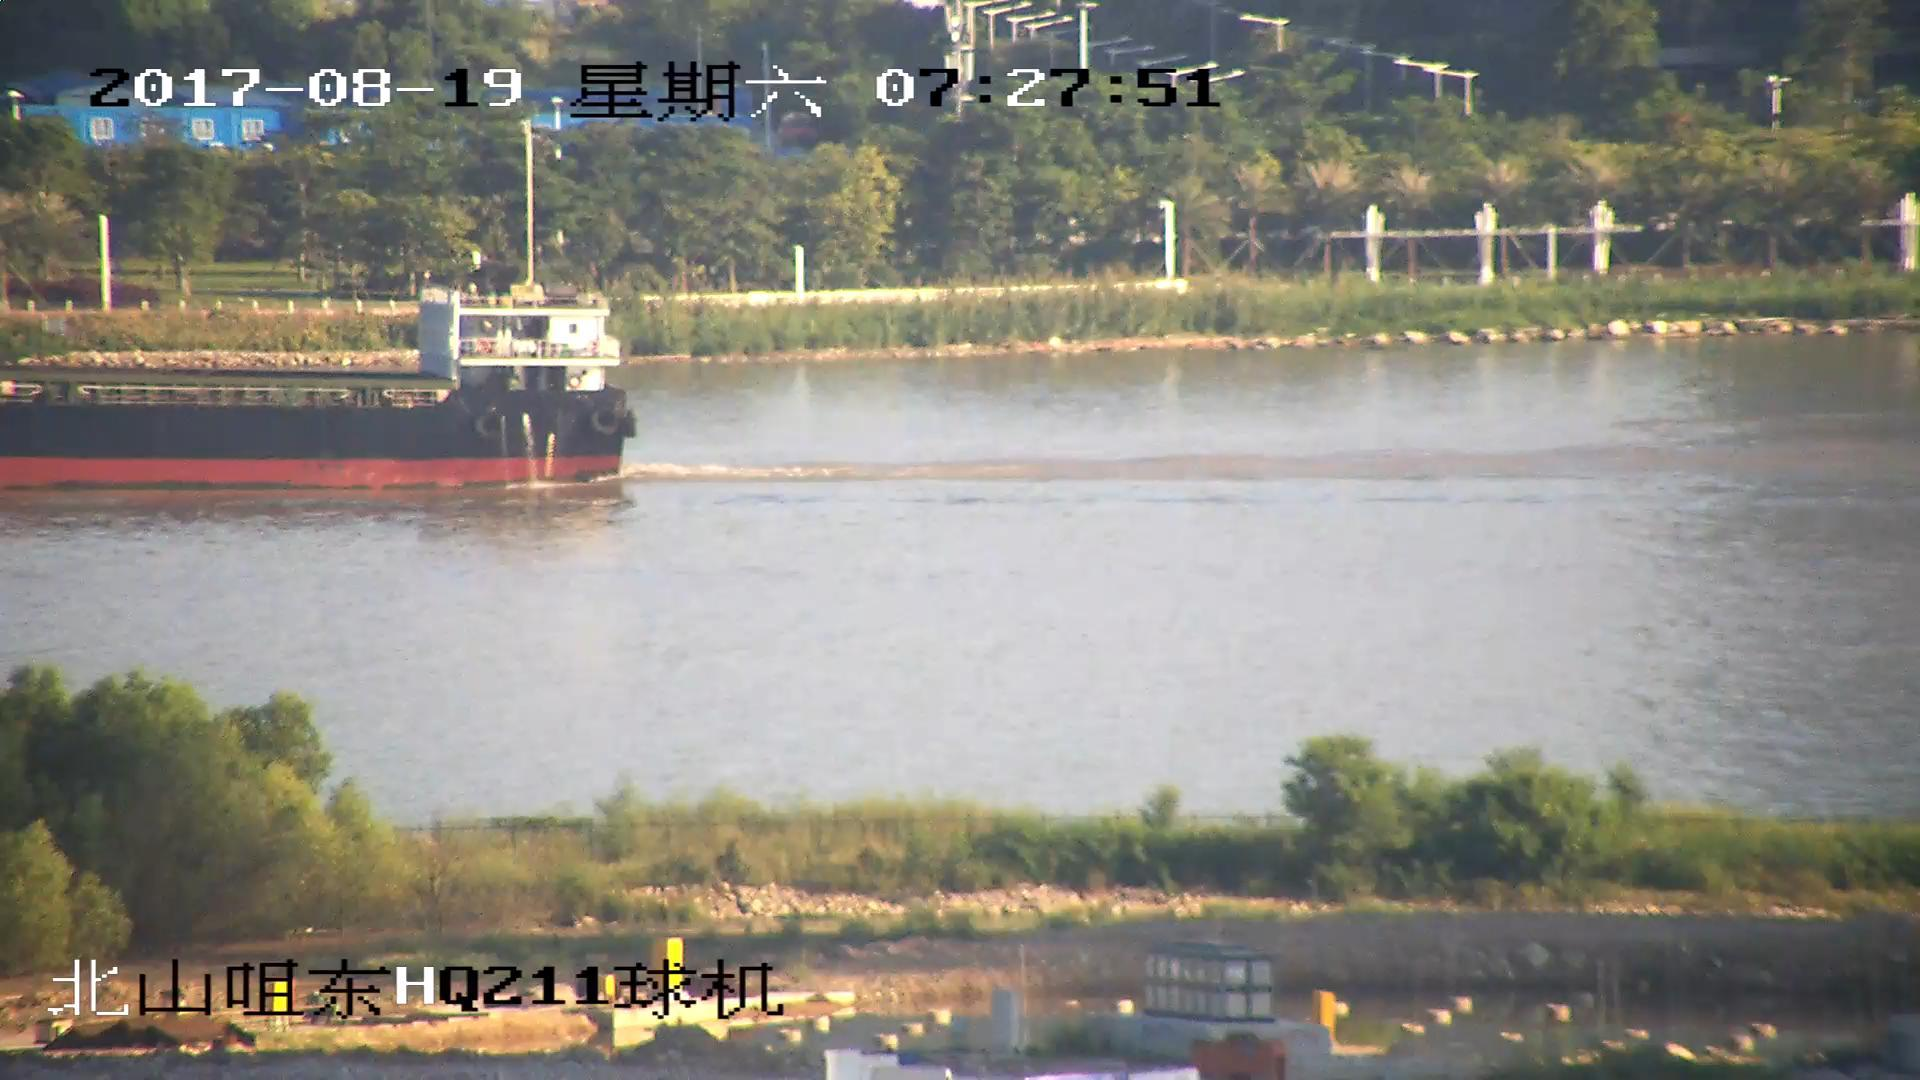Ship: (3, 295, 634, 498)
